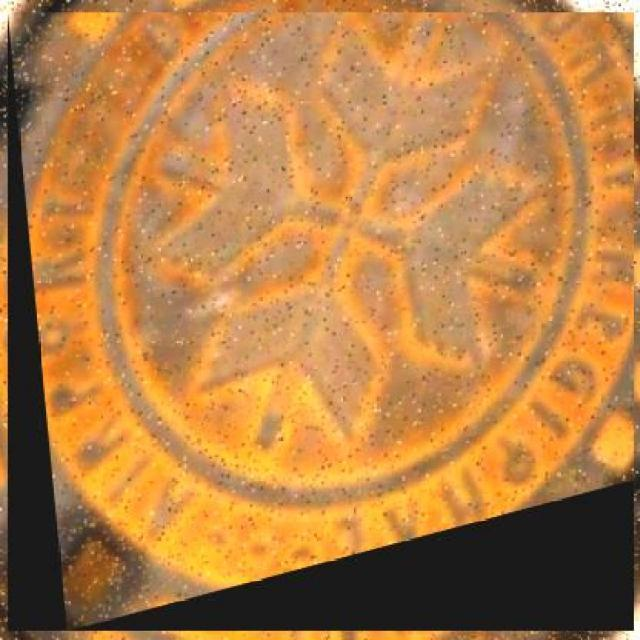Manhole: (8, 12, 634, 631)
